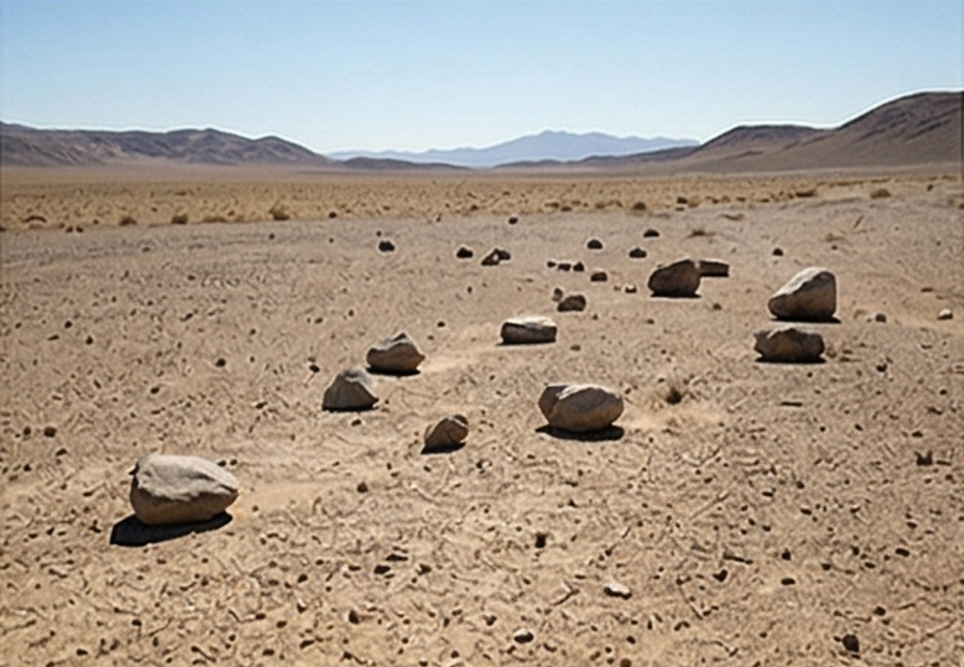rocks: (132, 454, 239, 524), (538, 384, 623, 433), (768, 268, 835, 320), (648, 259, 727, 297), (323, 368, 377, 410), (368, 333, 423, 374), (755, 331, 823, 360), (500, 316, 557, 344), (425, 414, 467, 450)
